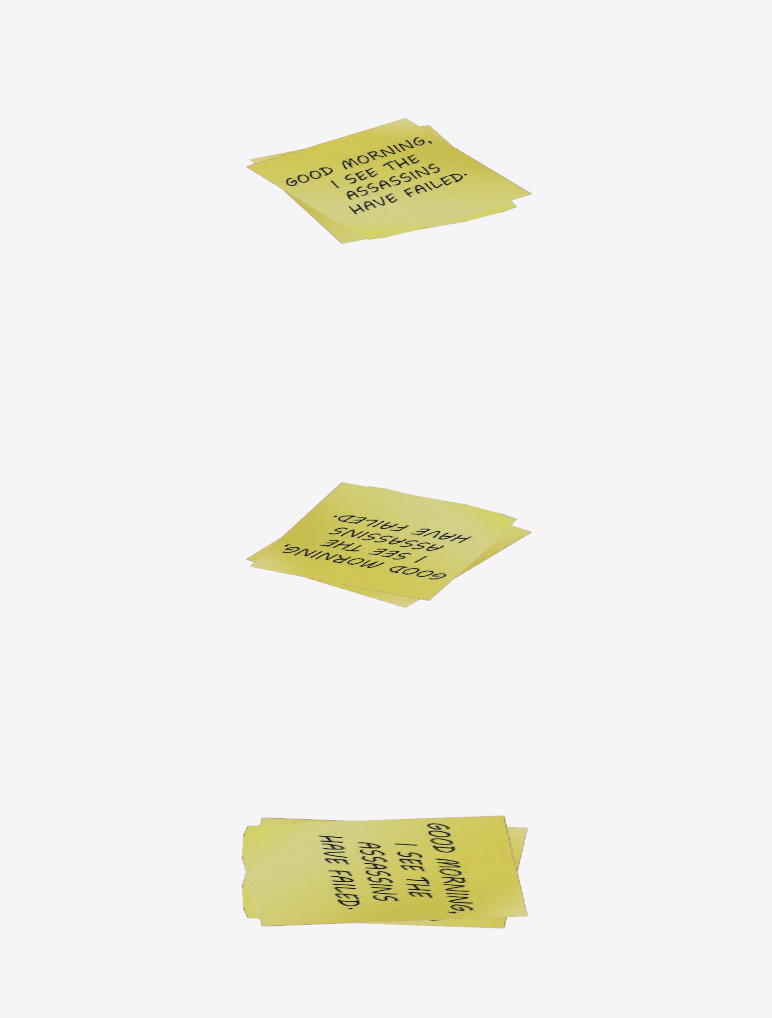
The model's file is off_decal11.fbx.
The picture shows the model from 3 angles, top to bottom: view 1: azimuth 30°, elevation 25°; view 2: azimuth 150°, elevation 25°; view 3: azimuth 270°, elevation 25°; orthographic projection. The views are drawn at different scales.
Parts seen in each view (by area): view 1: Plane01, Duplicate00; view 2: Plane01, Duplicate00; view 3: Plane01, Duplicate00.
Boxes of the visible parts, x1,y1,x2,y2 form: Plane01: (245,118,532,239); Duplicate00: (249,125,516,243); Plane01: (249,482,516,600); Duplicate00: (245,486,532,607); Plane01: (241,815,527,926); Duplicate00: (241,817,527,928).
Size of the model in its own units: 12.83 by 0.0909 by 15.54.
